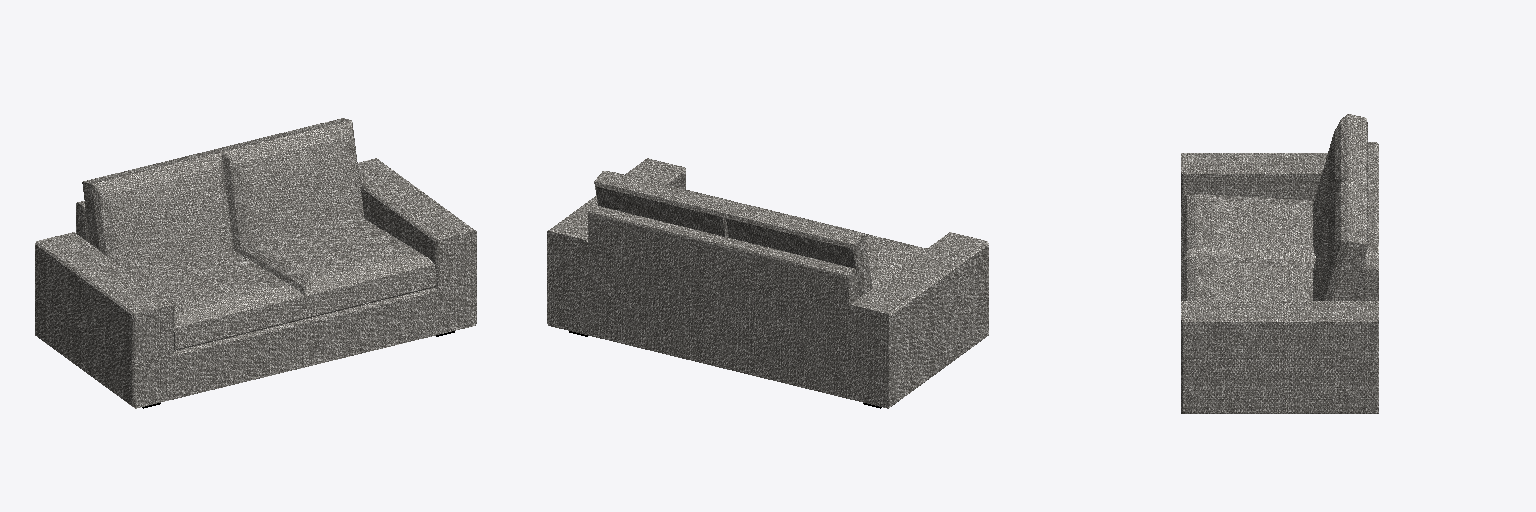
3 views of the same model, side by side, from view 1: azimuth 30°, elevation 25°; view 2: azimuth 150°, elevation 25°; view 3: azimuth 270°, elevation 25° (orthographic).
Parts seen in each view (by area): view 1: Mesh5 _KIVIK_two_seat_sofa_1_1 Model; view 2: Mesh5 _KIVIK_two_seat_sofa_1_1 Model; view 3: Mesh5 _KIVIK_two_seat_sofa_1_1 Model.
Part boxes in pixels (x1,y1,x2,y2): Mesh5 _KIVIK_two_seat_sofa_1_1 Model: (35,118,476,408); Mesh5 _KIVIK_two_seat_sofa_1_1 Model: (547,158,988,408); Mesh5 _KIVIK_two_seat_sofa_1_1 Model: (1181,114,1378,413).
Bounding box in the file's own units: 74.8 × 32.67 × 37.4.
Materials: 2 (1 with a texture image).